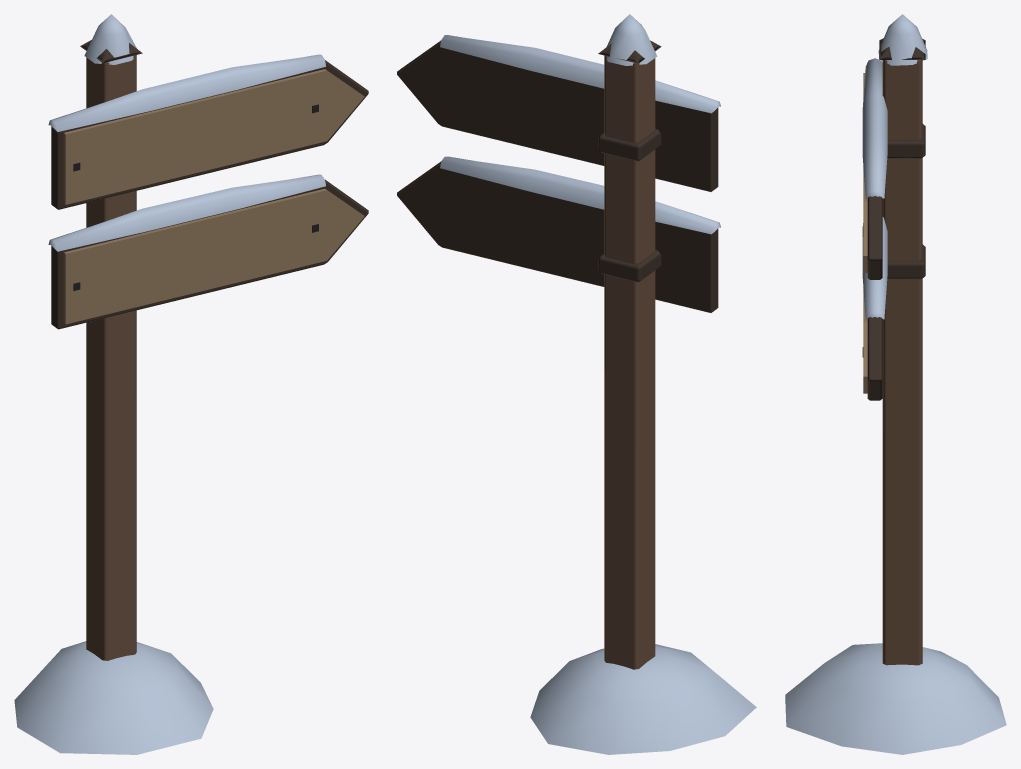
Rendered from signpost.glb.
3 renders of one model, left to right at view 1: azimuth 30°, elevation 25°; view 2: azimuth 150°, elevation 25°; view 3: azimuth 270°, elevation 25°, orthographic.
Visible parts, largest first — view 1: Post, BoardTop, BoardBottom; view 2: Post, BoardTop, BoardBottom; view 3: Post, BoardTop, BoardBottom.
Part boxes in pixels (left/top/right/bottom): Post: left=14, top=14, right=213, bottom=754; BoardTop: left=48, top=54, right=368, bottom=209; BoardBottom: left=48, top=174, right=368, bottom=329; Post: left=530, top=14, right=756, bottom=754; BoardTop: left=397, top=35, right=720, bottom=191; BoardBottom: left=397, top=156, right=720, bottom=312; Post: left=785, top=14, right=1006, bottom=754; BoardTop: left=862, top=58, right=887, bottom=279; BoardBottom: left=862, top=217, right=887, bottom=400.
Bounding box in the file's own units: 1.17 × 2.31 × 0.6658.
